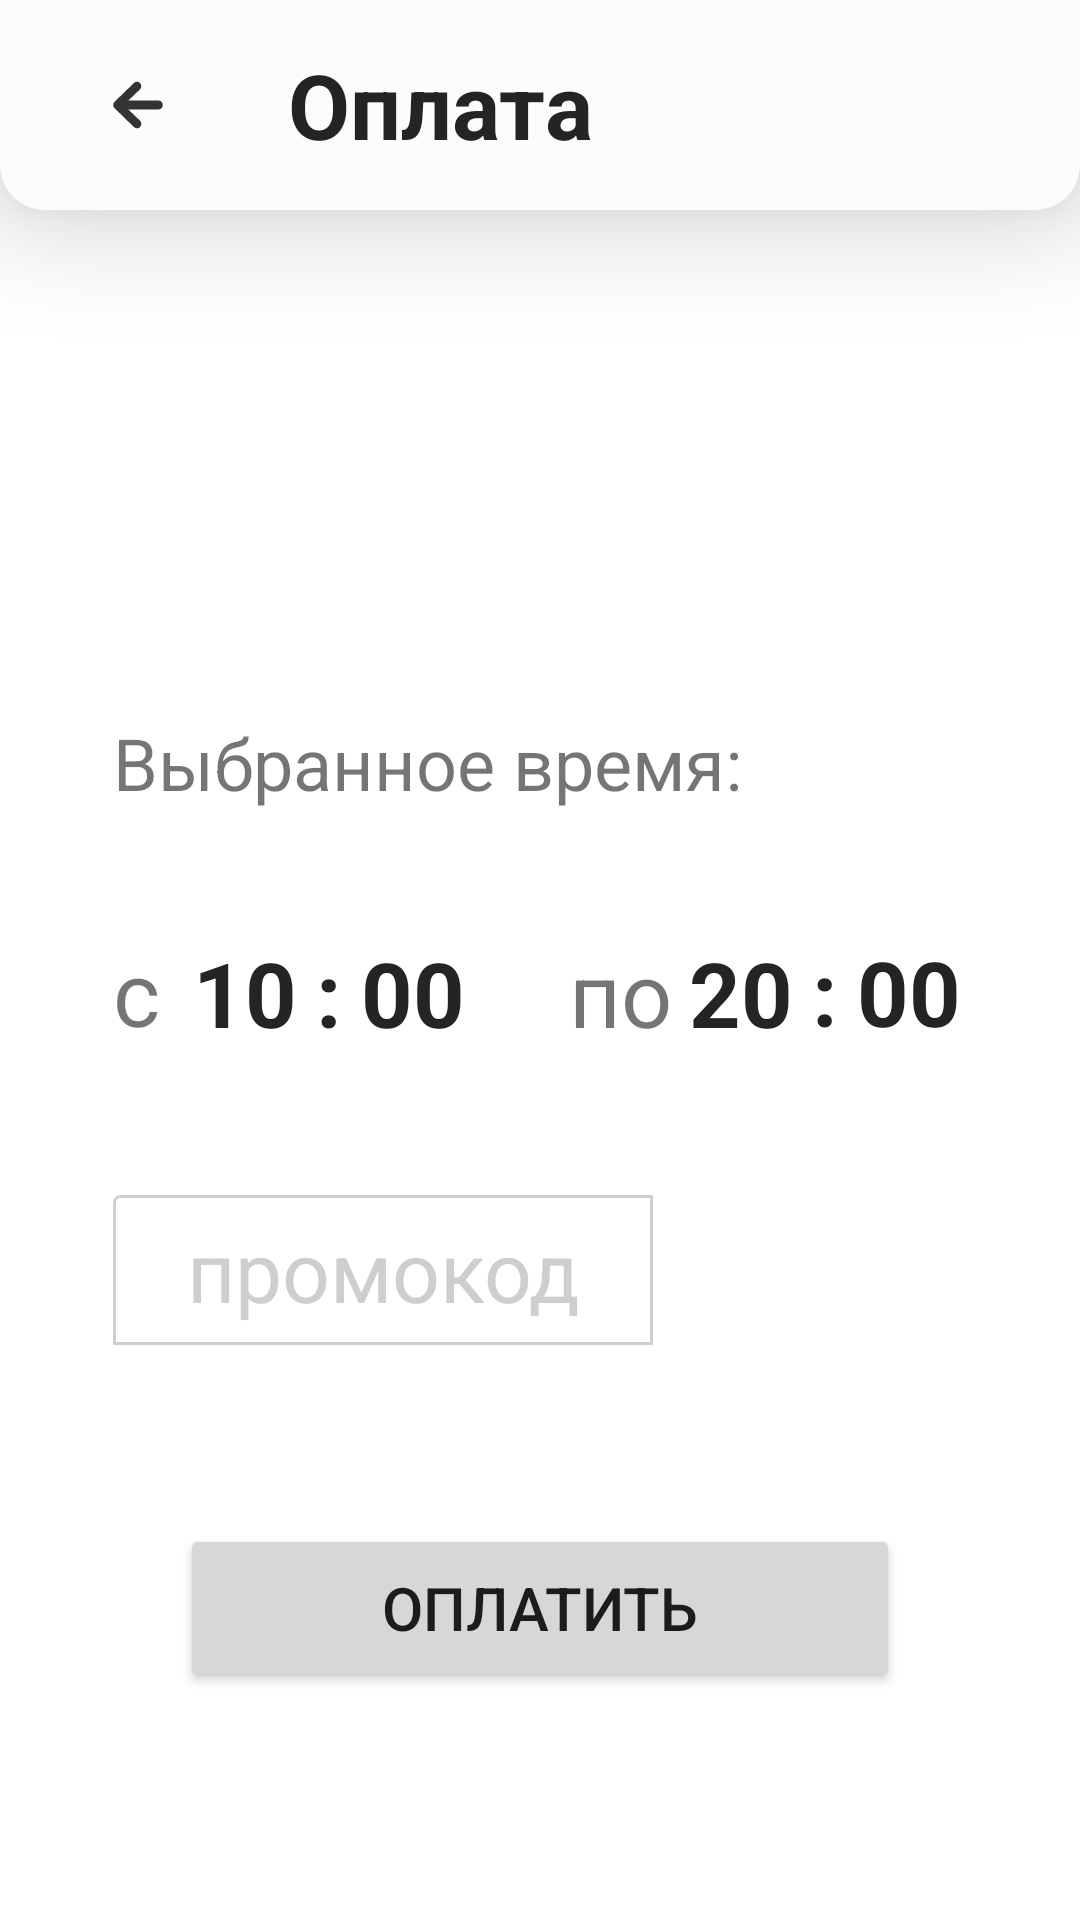

Icons on this 1080x1920 Android screen, each with the point to tap as [x,y]:
arrow back: [138,105]
